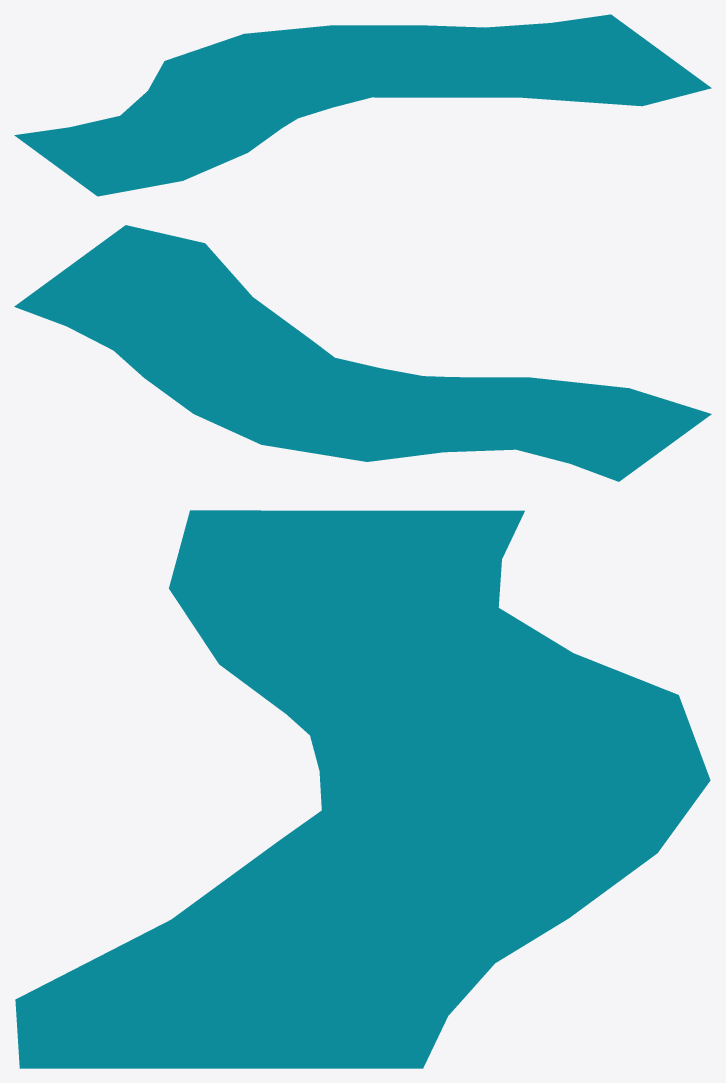
Rendered from Rivertest.fbx.
3 views of the same model, one above another, from view 1: azimuth 30°, elevation 25°; view 2: azimuth 150°, elevation 25°; view 3: azimuth 270°, elevation 25° (orthographic). The views are drawn at different scales.
Parts seen in each view (by area): view 1: RiverTest; view 2: RiverTest; view 3: RiverTest.
Boxes of the visible parts, left/top/right/bottom form: RiverTest: left=14, top=14, right=711, bottom=196; RiverTest: left=14, top=225, right=711, bottom=481; RiverTest: left=15, top=510, right=710, bottom=1068.
Bounding box in the file's own units: 29977 × 0 × 15782.
